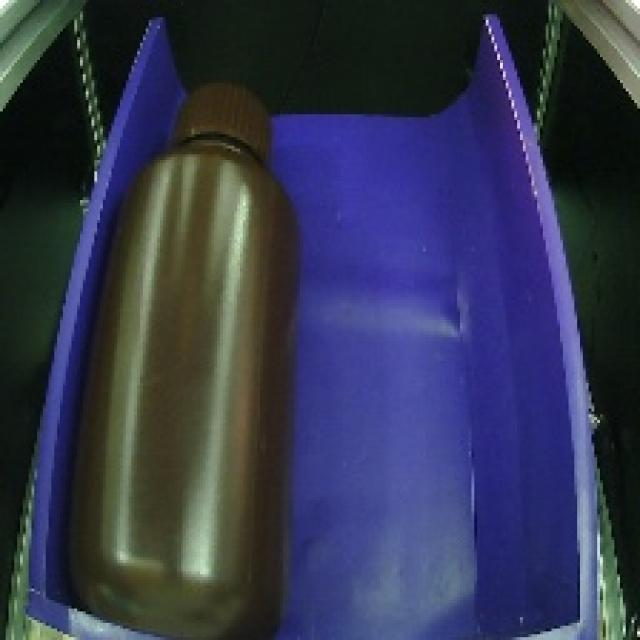plastic: (49, 71, 308, 640)
